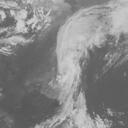cyclone: (56, 26, 82, 97)
